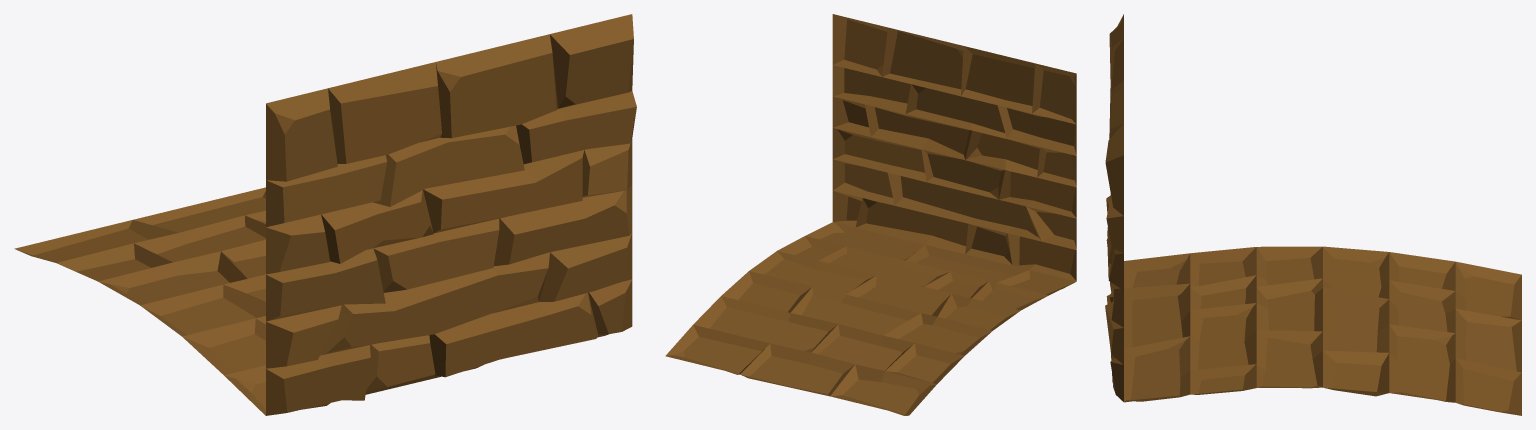
Rendered from Cave_Roof02.fbx.
3 renders of one model, left to right at view 1: azimuth 30°, elevation 25°; view 2: azimuth 150°, elevation 25°; view 3: azimuth 270°, elevation 25°, orthographic. The views are drawn at different scales.
Visible parts, largest first — view 1: Cave_Roof01.002; view 2: Cave_Roof01.002; view 3: Cave_Roof01.002.
Part boxes in pixels (x1,y1,x2,y2): Cave_Roof01.002: (14,14,636,415); Cave_Roof01.002: (665,14,1076,415); Cave_Roof01.002: (1105,14,1521,415).
Size of the model in its own units: 2586 by 2269 by 3223.
